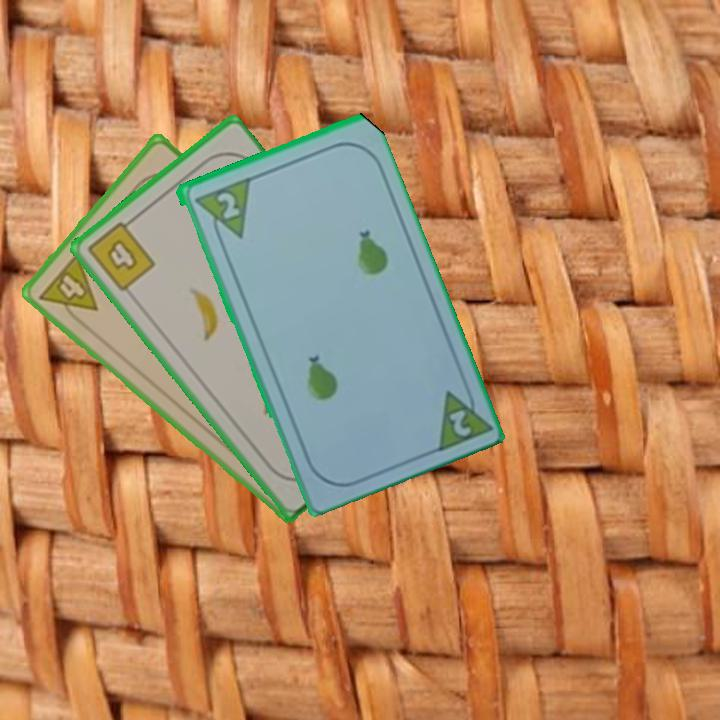2p: (429, 377, 491, 455), (190, 174, 252, 248)
4b: (83, 213, 158, 295)
4p: (34, 249, 101, 330)
